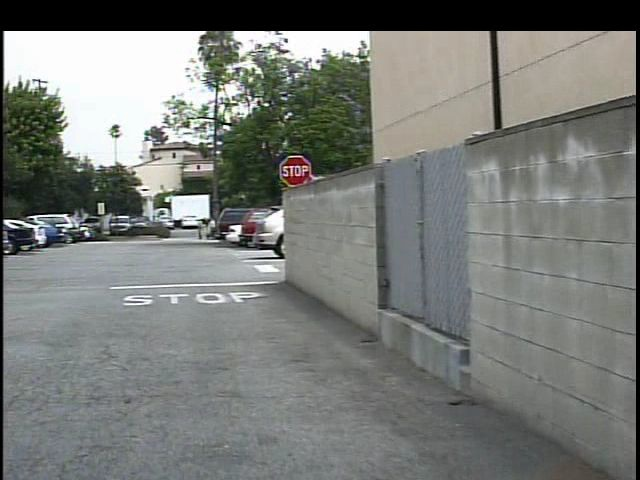person: (186, 216, 200, 243), (198, 217, 211, 242)
